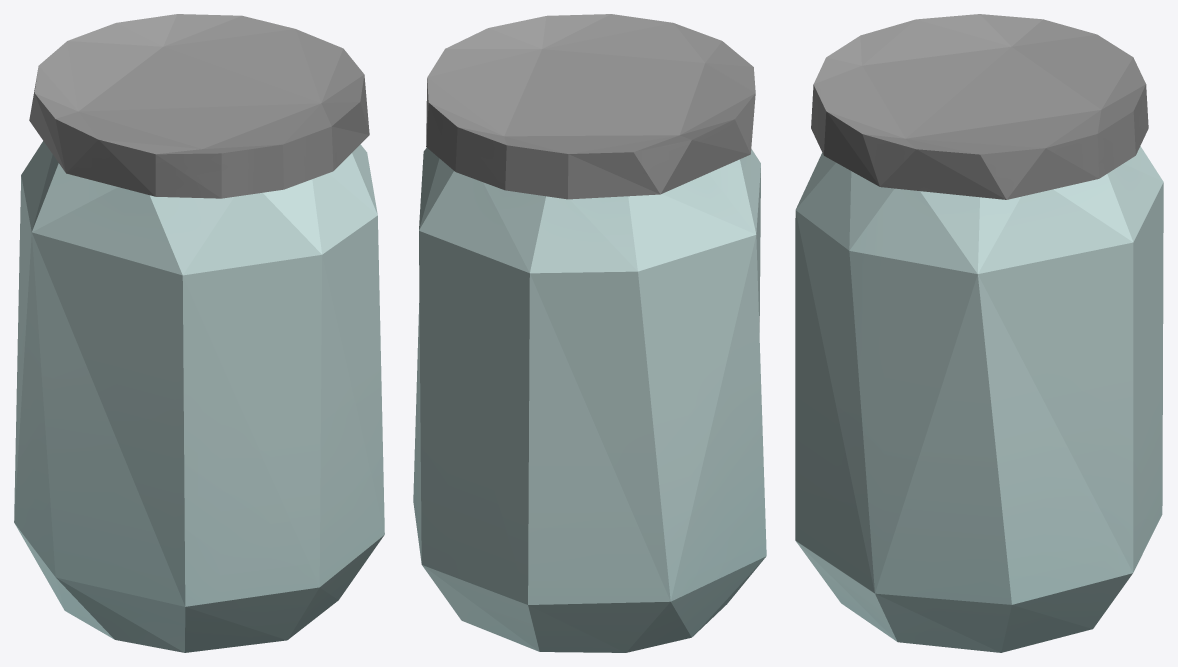
File: bottle2_1c.dae
The picture shows the model from 3 angles, left to right: view 1: azimuth 30°, elevation 25°; view 2: azimuth 150°, elevation 25°; view 3: azimuth 270°, elevation 25°; orthographic projection.
Parts seen in each view (by area): view 1: node; view 2: node; view 3: node.
Boxes of the visible parts, box(x1,y1,x2,y2) form: node: box(14, 14, 384, 652); node: box(413, 14, 766, 652); node: box(795, 14, 1163, 652).
Size of the model in its own units: 0.0709 by 0.1037 by 0.0679.
Materials: 1 (1 with a texture image).
